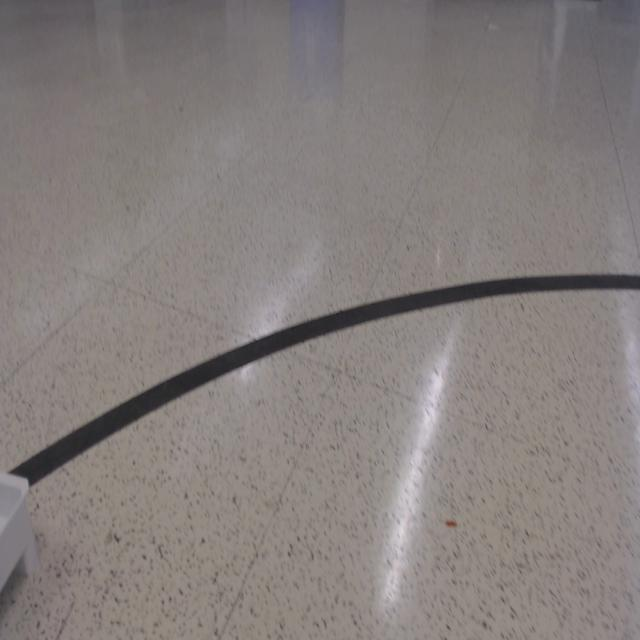wbox: (2, 3, 637, 635), (0, 468, 40, 596)
